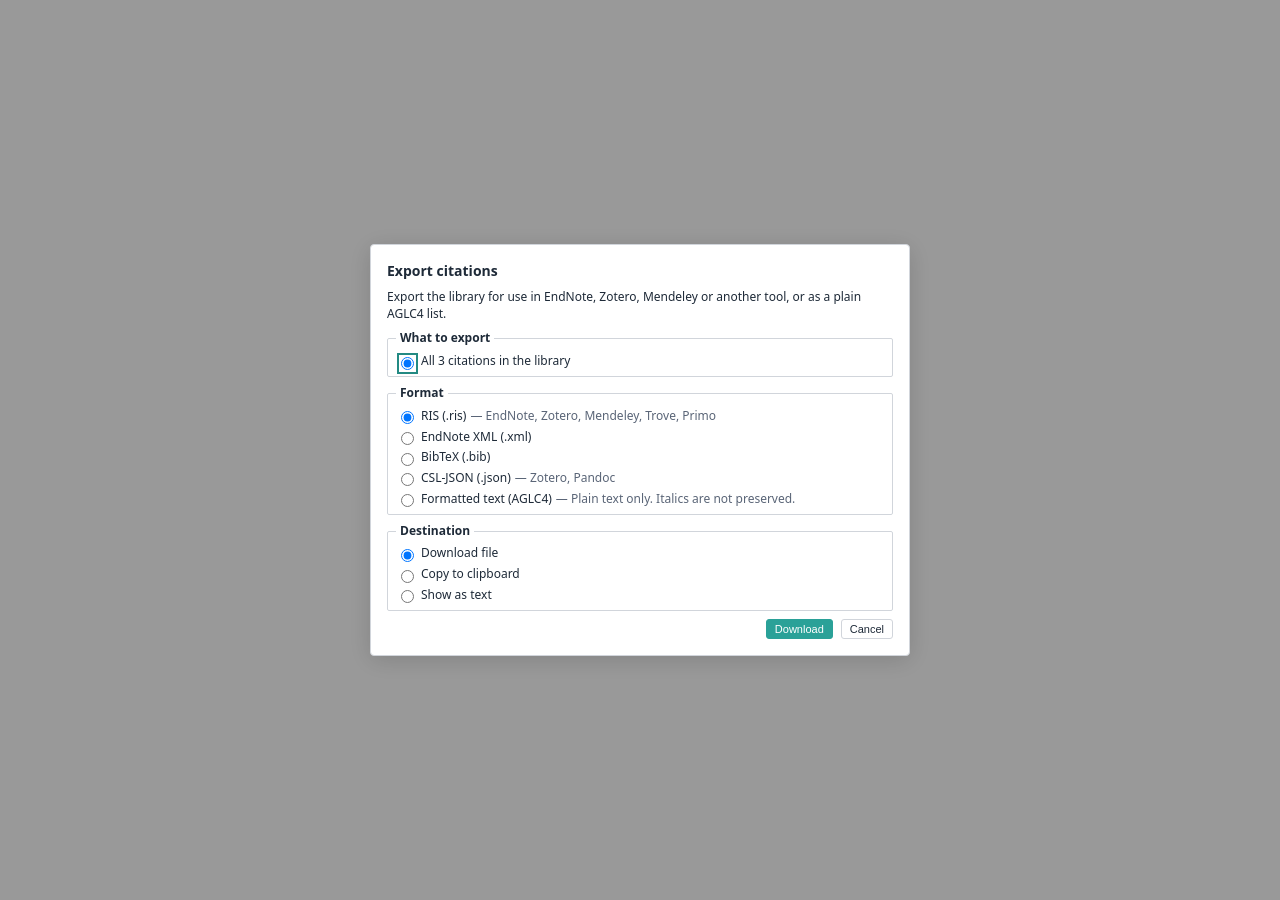
Scenario: ExportDialog › shows the text with a Select all button, including the formatted list
Click the radio button labelled "Formatted text" at [408, 501], box [401,494,414,507]
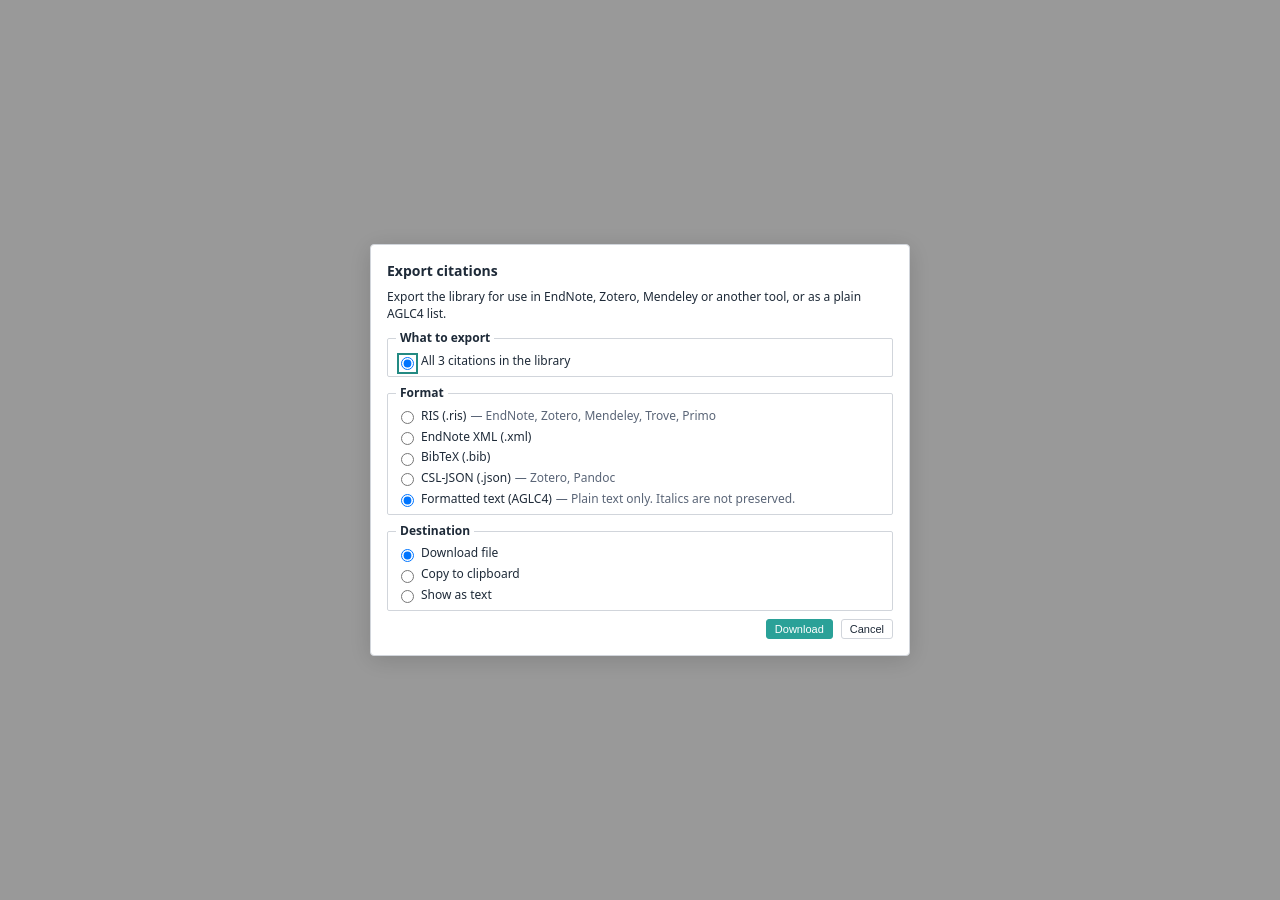
Click the radio button labelled "Show as text" at [408, 597], box [401,590,414,604]
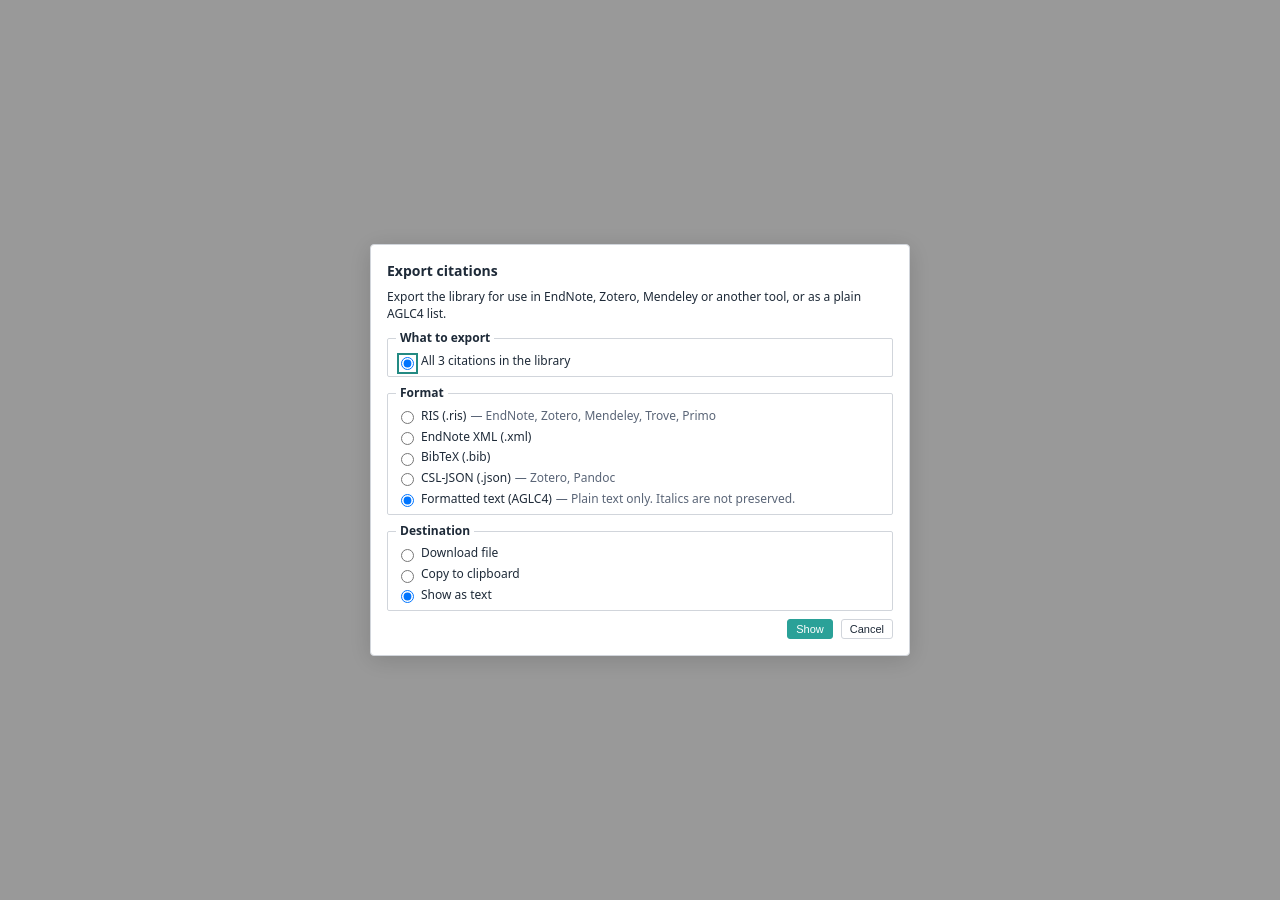
Click the button "Show" at [810, 629], box [787,619,833,639]
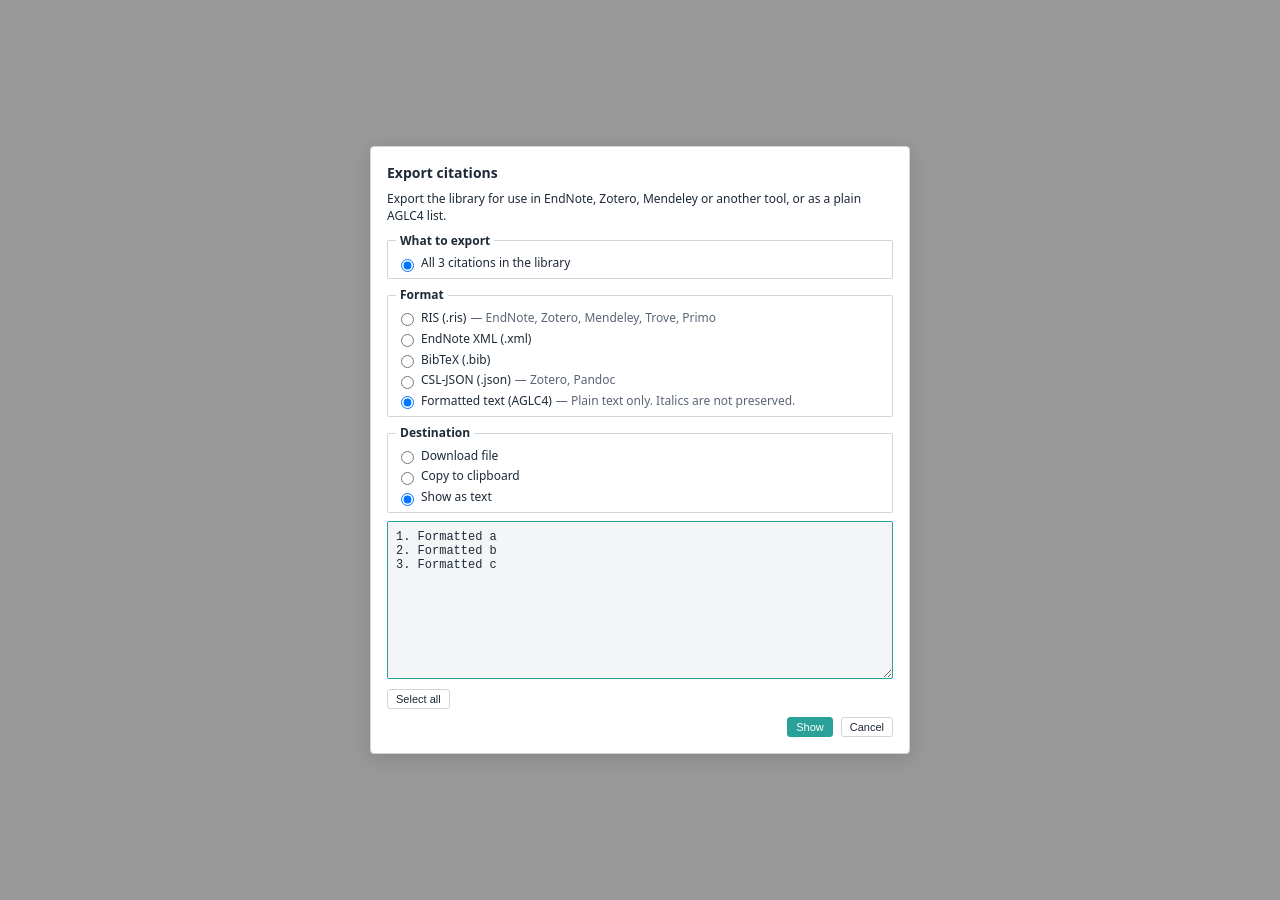
Expected: the text box named "Exported text" is shown, [387,521,893,679]
Expected: the button "Select all" is shown, [387,689,450,709]
